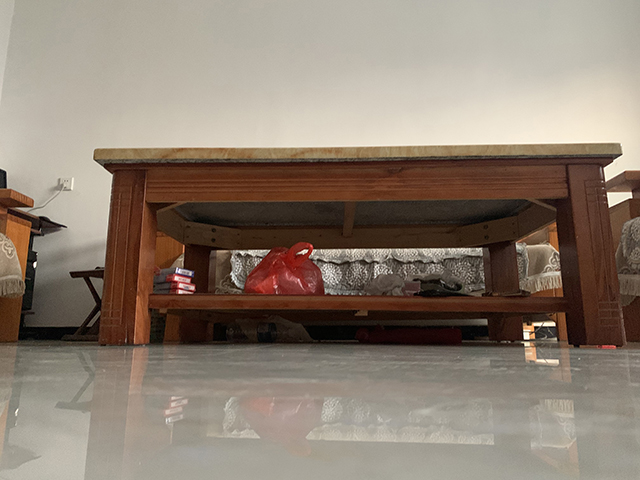stool: (62, 266, 103, 343)
table: (92, 142, 627, 347)
